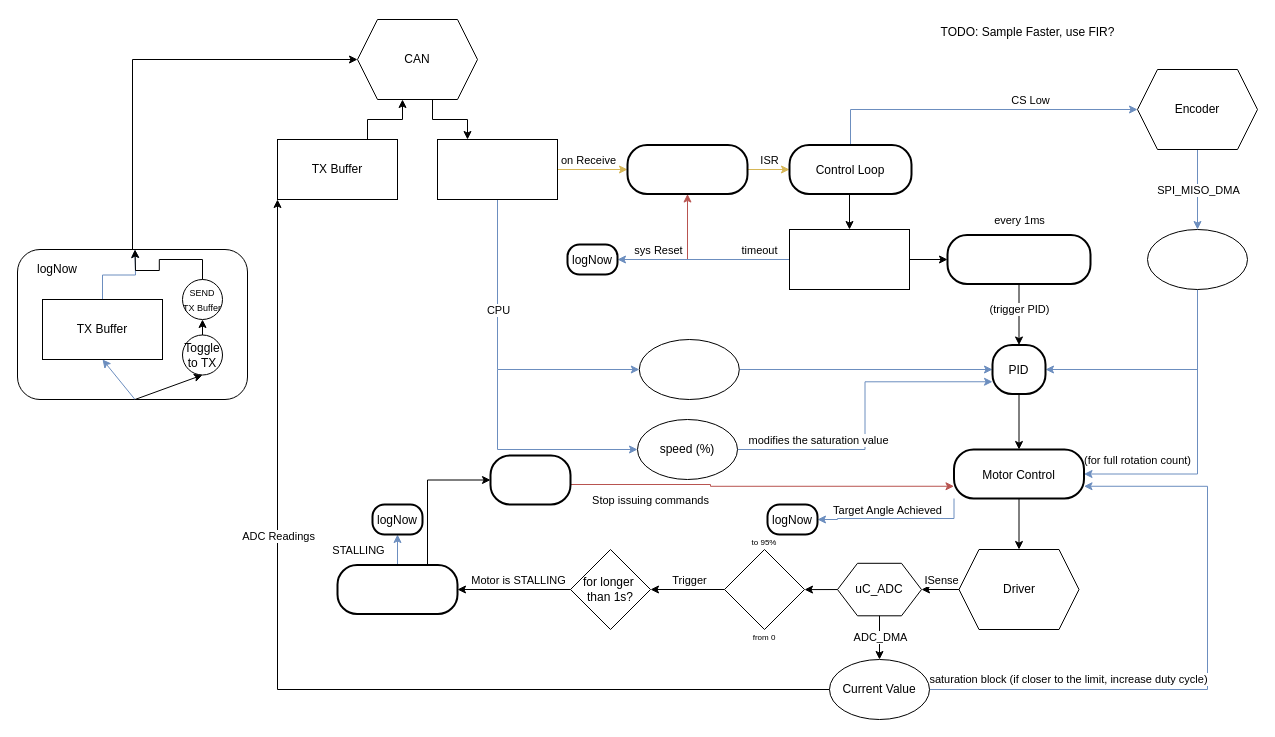
Image size: 1275x737. Some labels were removed from this diagram. The shapes that lost their labels are listed below. From the top down, each one's centre as x and y in pixels, then its label:
At [497,169]: "RX Buffer".
At [687,169]: "COM Interrupt".
At [849,259]: "start/reset System Watchdog".
At [1018,259]: "Timer Interrupt".
At [1197,259]: "real_angle".
At [688,369]: "target_angle".
At [530,479]: "Motor STOP".
At [397,589]: "Stall Interrupt".
At [764,589]: "ADC Watchdog".
